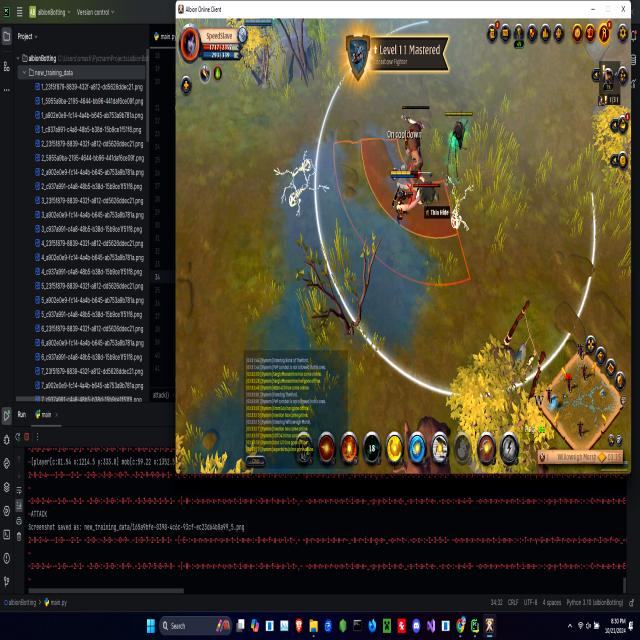ore: (398, 100, 432, 191), (408, 178, 447, 211)
red: (388, 169, 420, 226), (240, 15, 276, 30)
silver: (330, 135, 472, 290)
